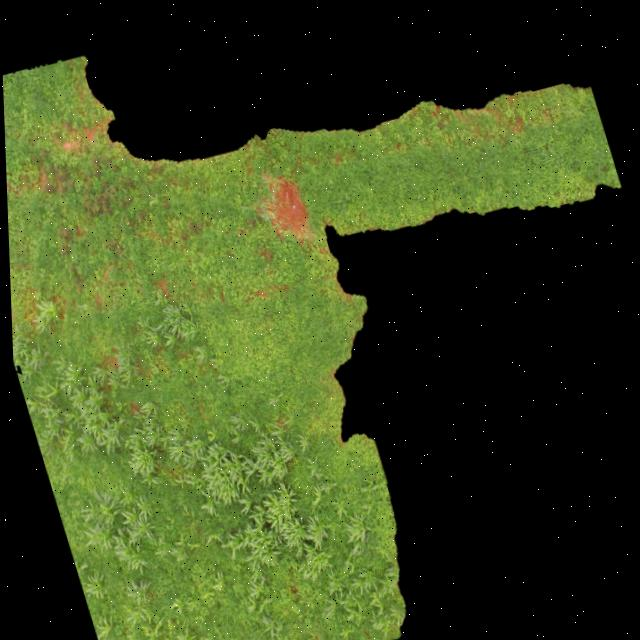Weed: (2, 55, 619, 640)
